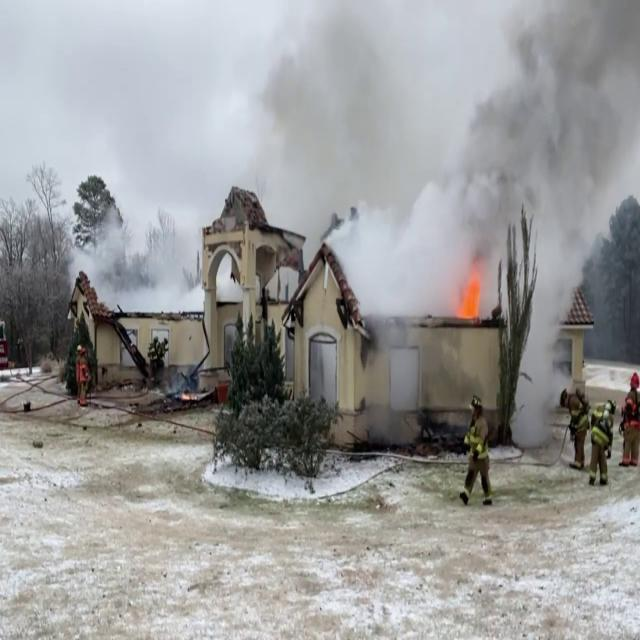Fire: (456, 258, 488, 326)
Smoke: (231, 0, 640, 312), (66, 195, 198, 314)
